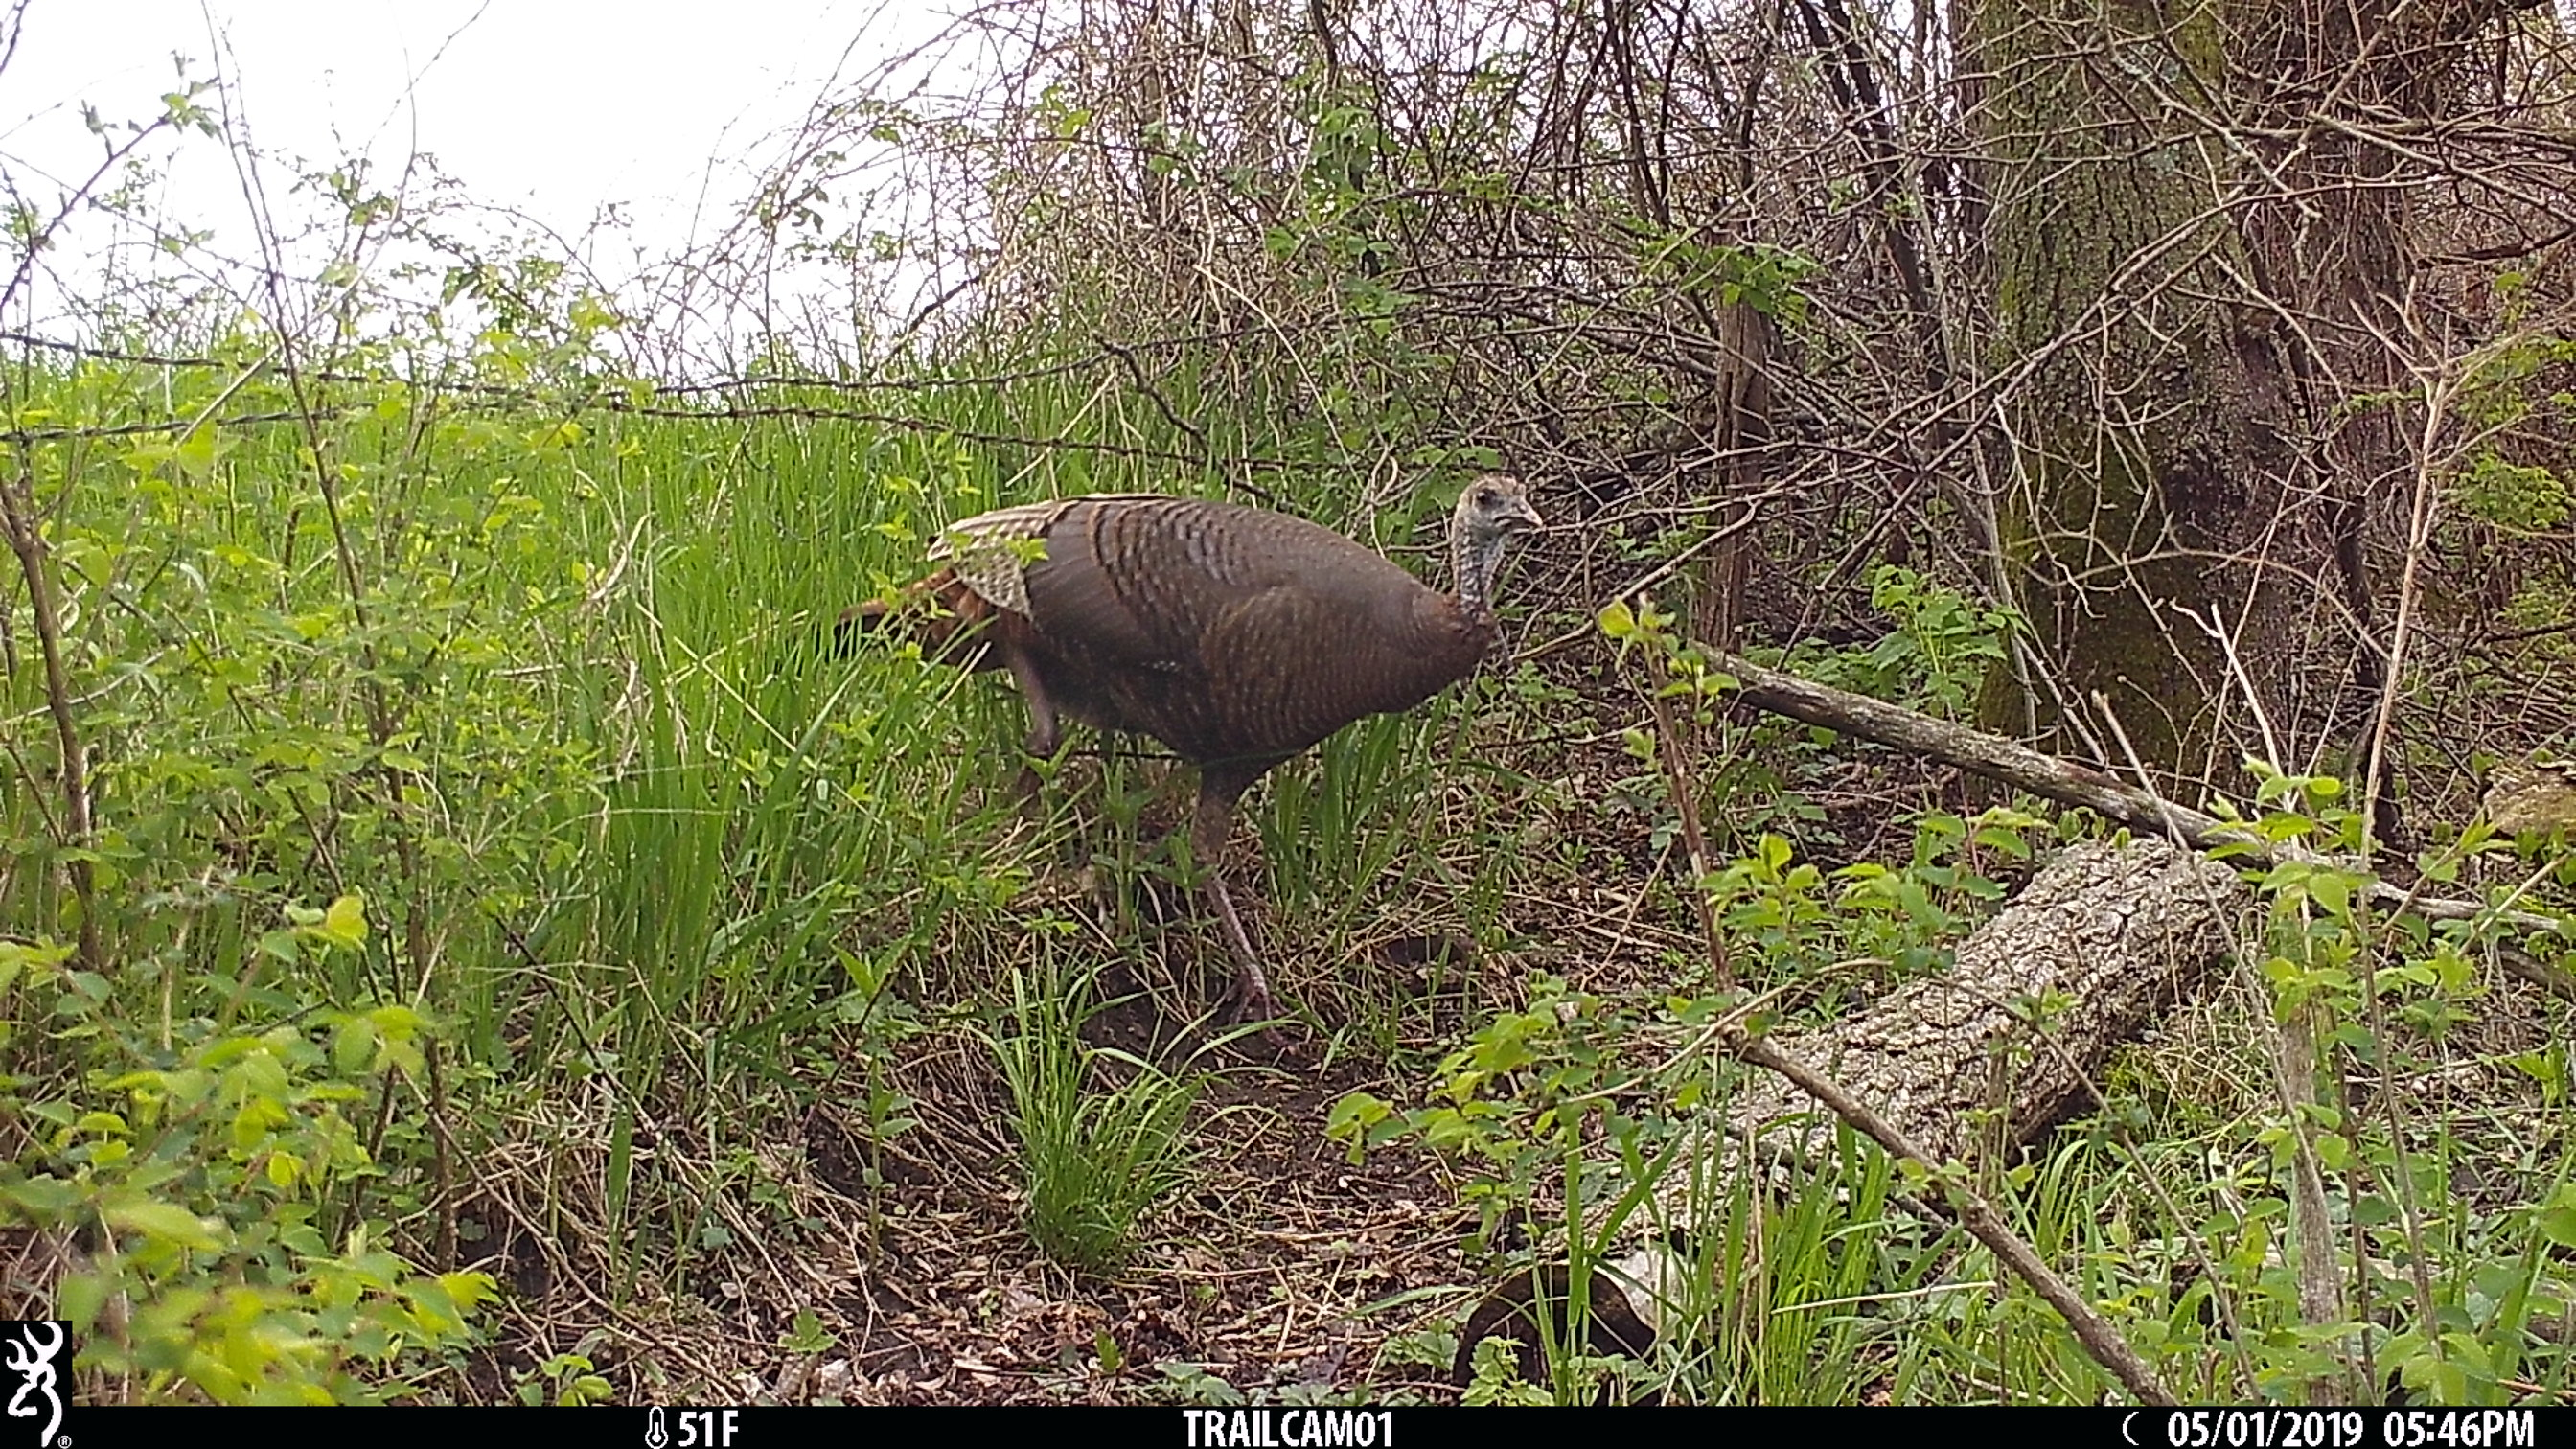Turkey: (835, 471, 1545, 780)
